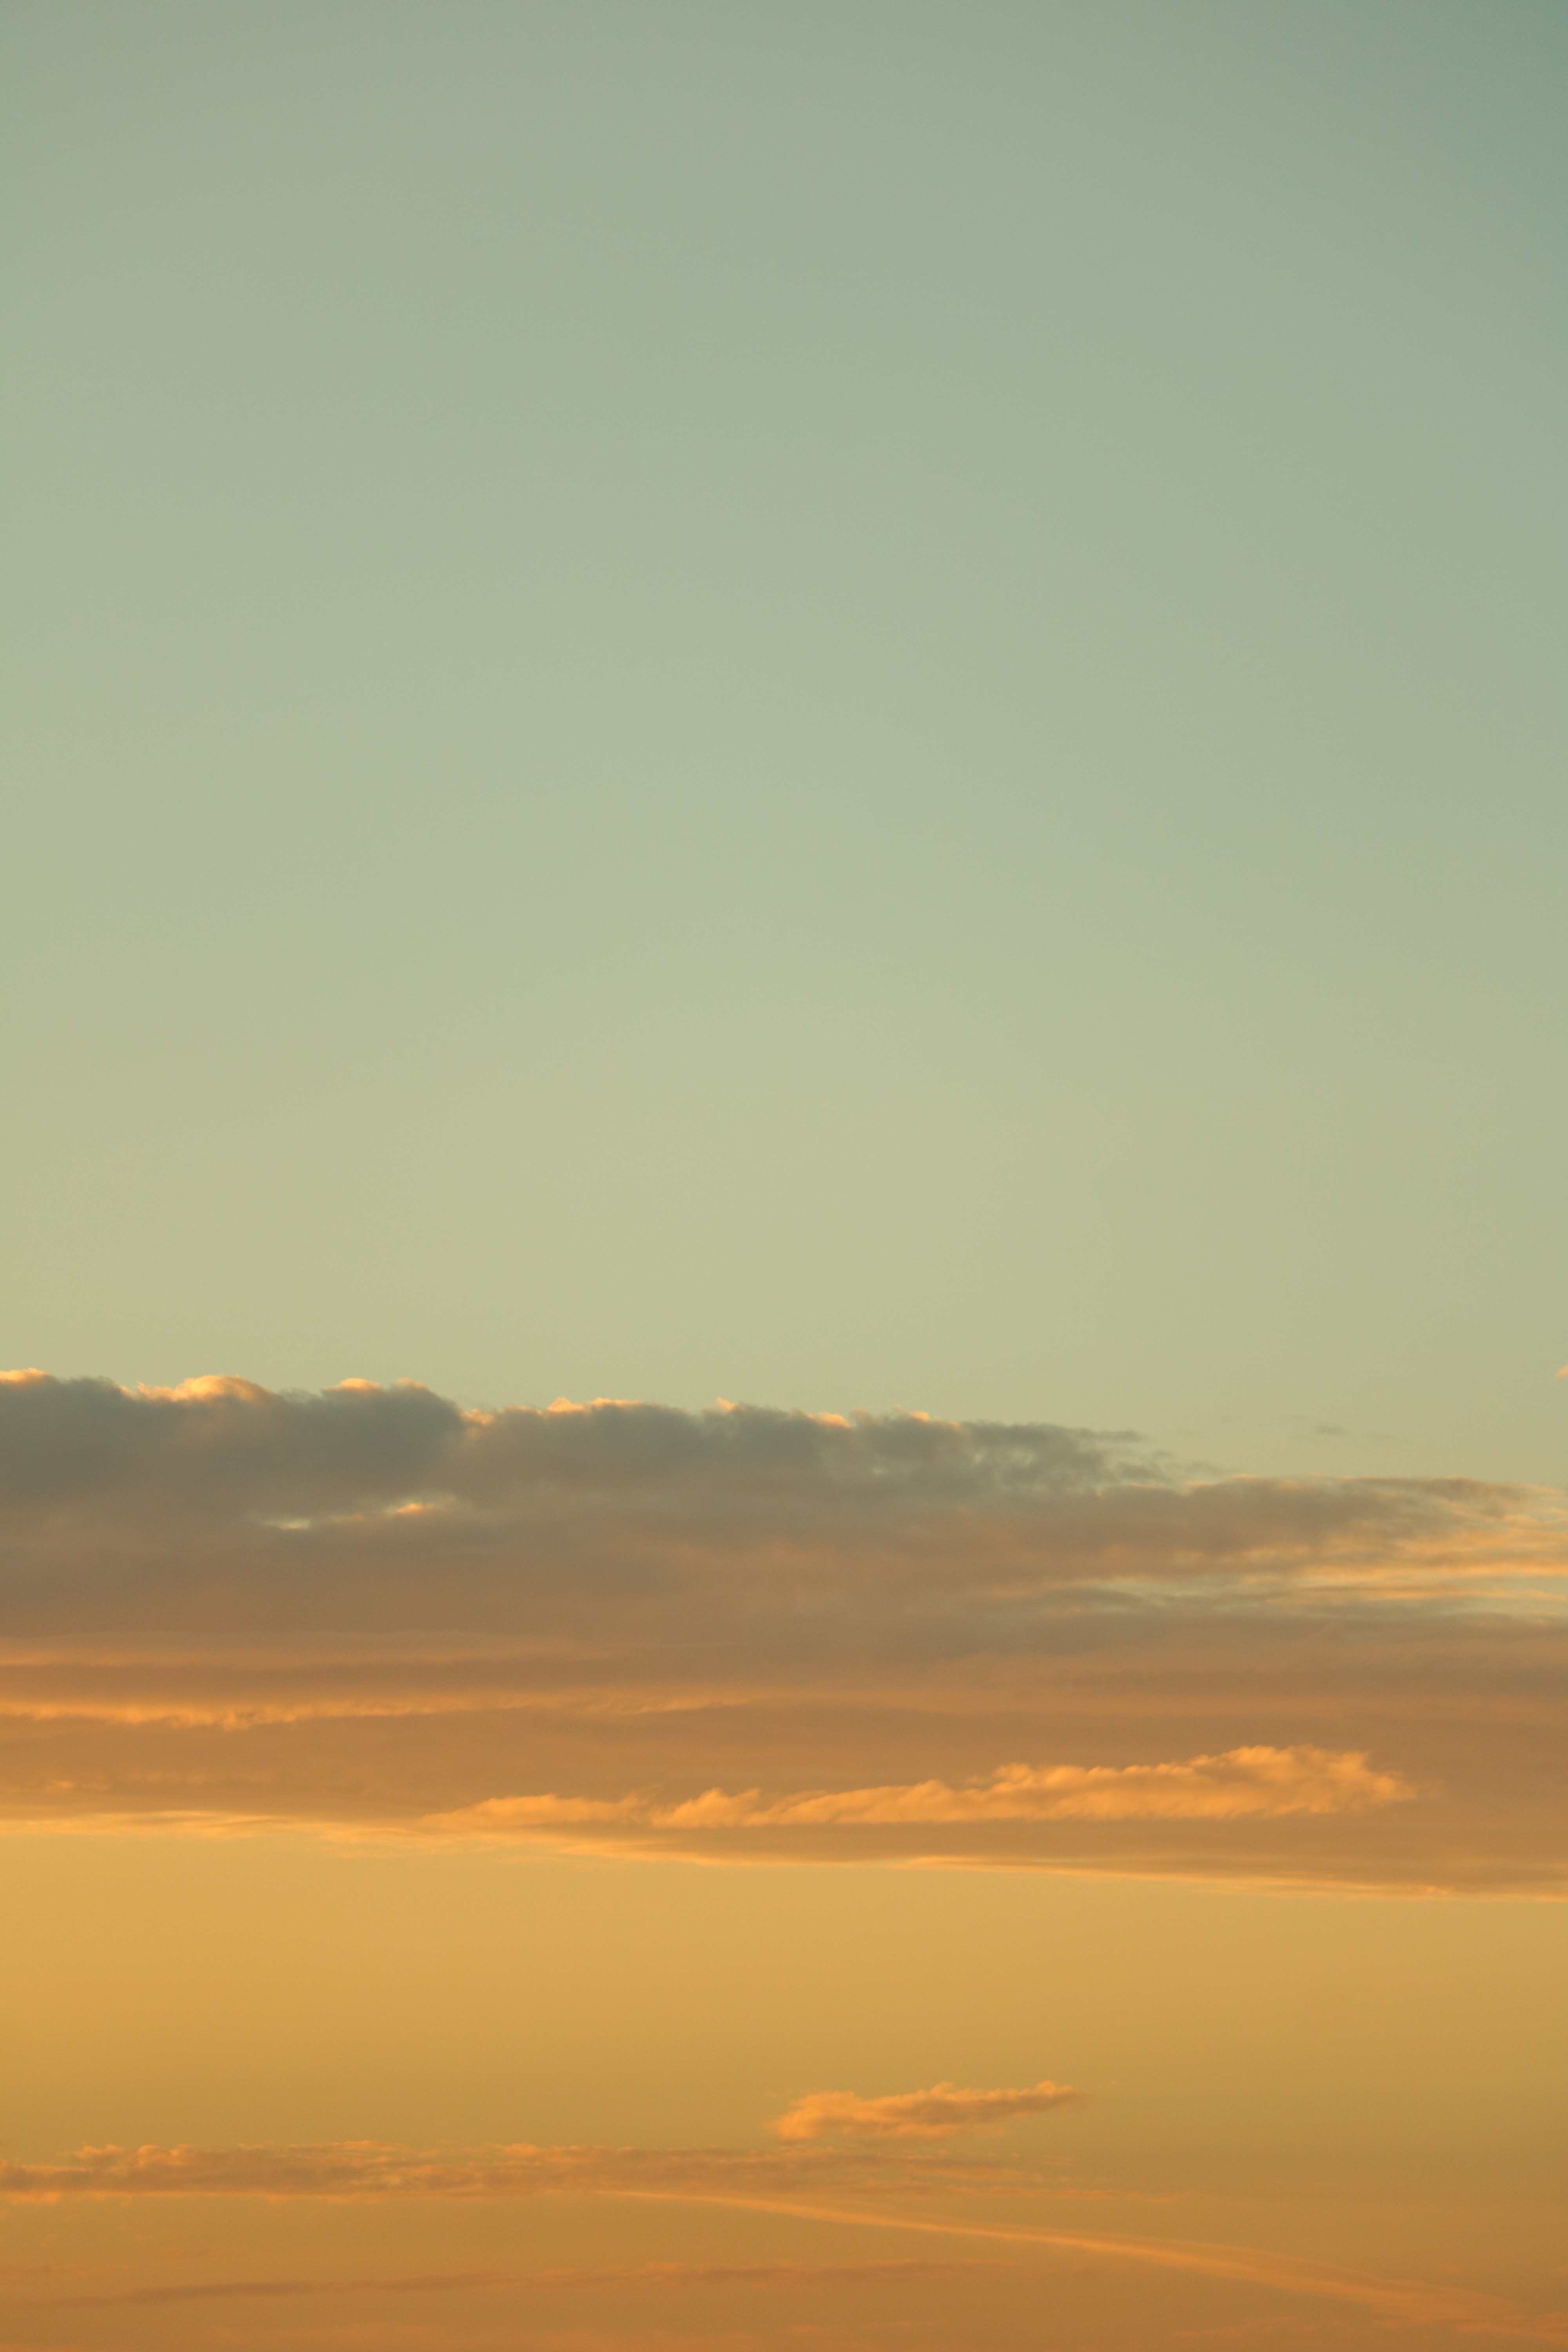Stratus: (4, 1319, 1568, 1939), (4, 2044, 1561, 2352)
